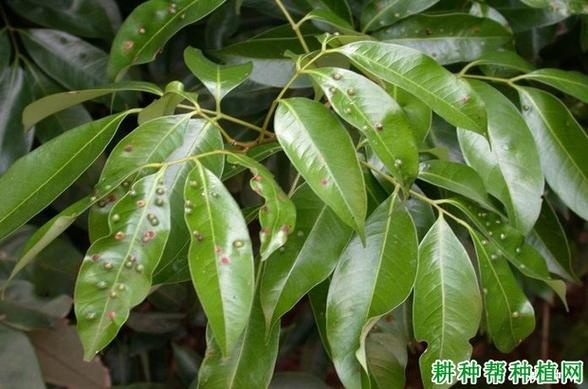Gall_Mite: (457, 200, 561, 335), (305, 59, 410, 187), (91, 146, 154, 337), (163, 154, 256, 260), (111, 2, 206, 77)
